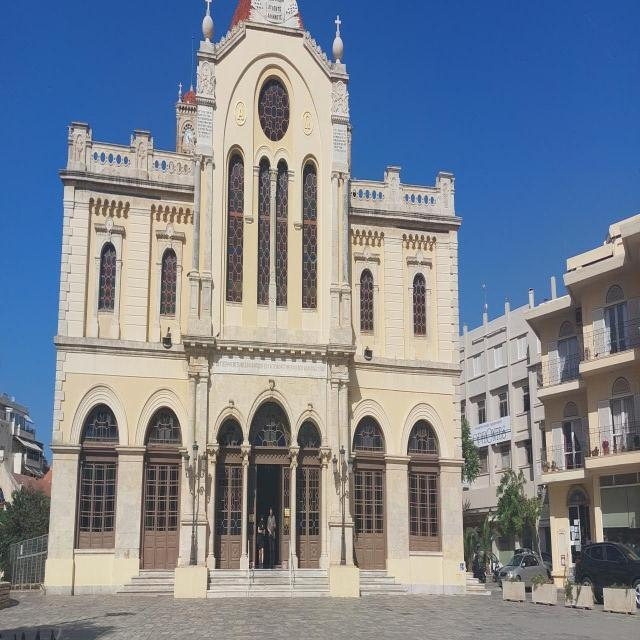Agios Minas: (43, 1, 471, 602)
